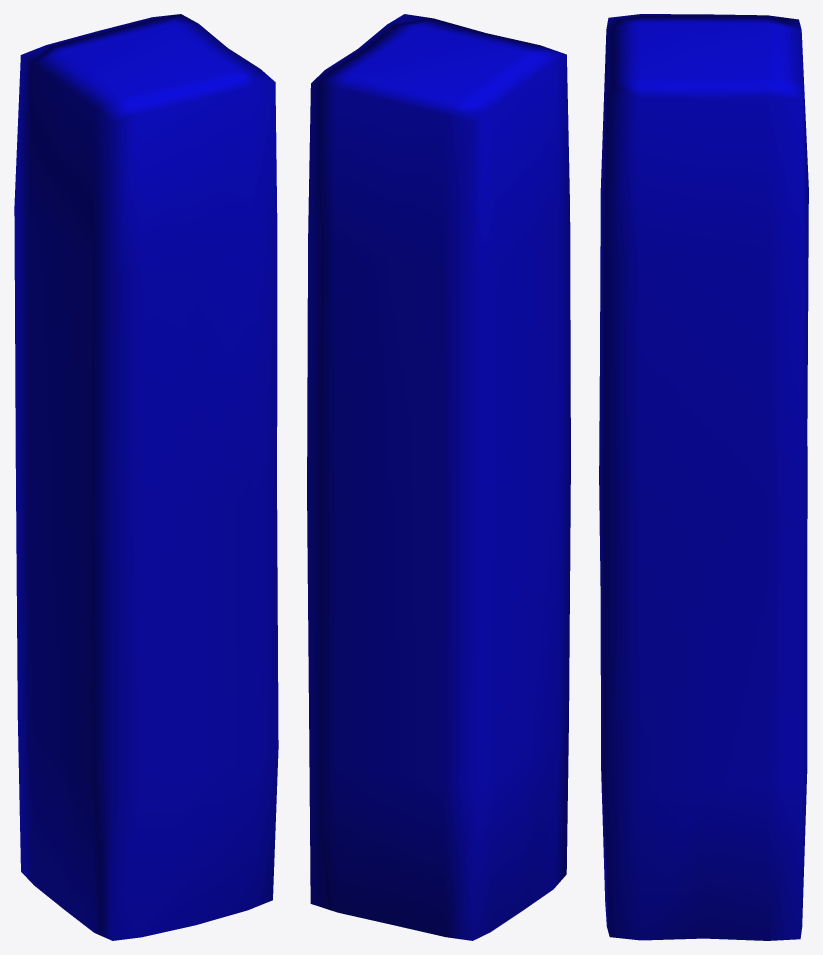
Rendered from tower_pier.glb.
3 views of the same model, side by side, from view 1: azimuth 30°, elevation 25°; view 2: azimuth 150°, elevation 25°; view 3: azimuth 270°, elevation 25° (orthographic). The views are drawn at different scales.
Visible parts, largest first — view 1: tower_pier; view 2: tower_pier; view 3: tower_pier.
Part boxes in pixels (x1,y1,x2,y2): tower_pier: (14,14,278,940); tower_pier: (307,14,570,940); tower_pier: (599,14,808,940).
Size of what is drawn, in the model's own units: 0.712 by 3.21 by 0.7138.
